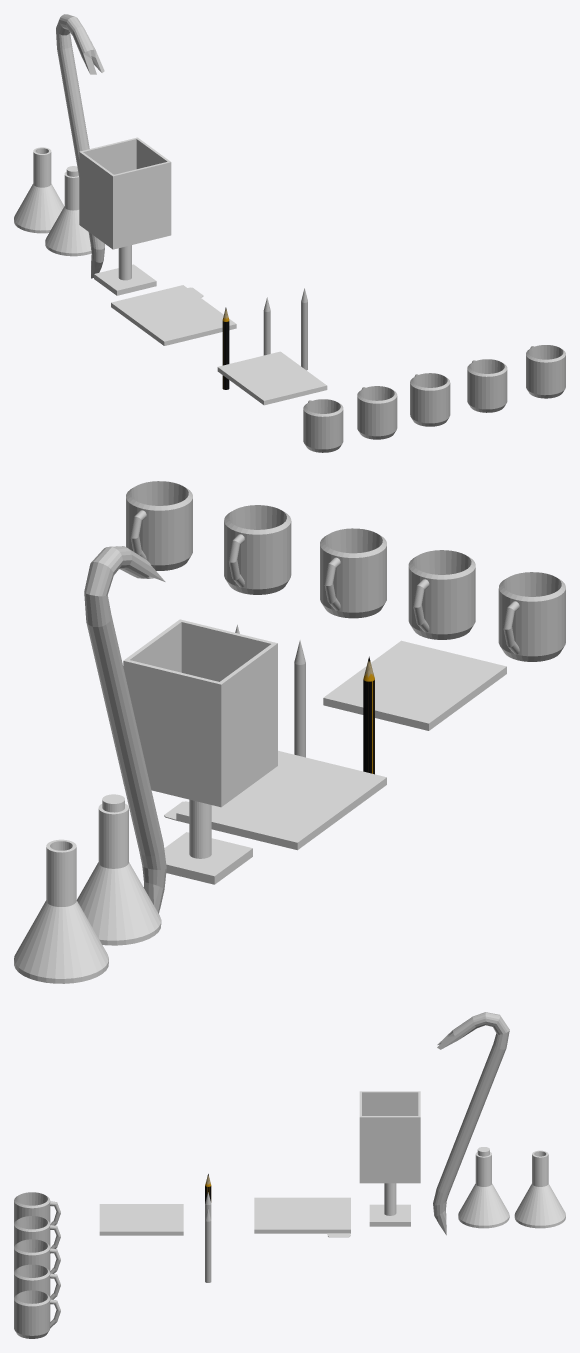
The model's file is coisinhasTexturas.fbx.
3 views of the same model, one above another, from view 1: azimuth 30°, elevation 25°; view 2: azimuth 150°, elevation 25°; view 3: azimuth 270°, elevation 25° (orthographic). The views are drawn at different scales.
Visible parts, largest first — view 1: abajur, ficha, pe de pequi, folheto.002, tubo 1, tubo 2, xicara.003, xicara.001, xicara, xicara.002, xicara.004; view 2: abajur, pe de pequi, ficha, folheto.002, tubo 1, tubo 2, xicara.003, xicara.001, xicara, xicara.002, xicara.004, lapis.001 (+1 smaller); view 3: abajur, pe de pequi, ficha, folheto.002, tubo 2, tubo 1, xicara.004, xicara.003, xicara.002, xicara, xicara.001, lapis.002.
Part boxes in pixels (x1,y1,x2,y2): abajur: (79, 137, 171, 295); ficha: (111, 285, 236, 345); pe de pequi: (56, 14, 104, 278); folheto.002: (217, 351, 327, 405); tubo 1: (14, 147, 64, 233); tubo 2: (45, 166, 91, 256); xicara.003: (467, 359, 507, 412); xicara.001: (357, 386, 397, 439); xicara: (303, 399, 343, 452); xicara.002: (410, 373, 450, 426); xicara.004: (526, 345, 565, 398); abajur: (123, 619, 277, 884); pe de pequi: (84, 546, 166, 913); ficha: (164, 750, 386, 850); folheto.002: (323, 640, 506, 730); tubo 1: (14, 839, 108, 983); tubo 2: (77, 794, 161, 945); xicara.003: (224, 505, 291, 594); xicara.001: (408, 550, 475, 639); xicara: (498, 572, 565, 661); xicara.002: (320, 528, 386, 618); xicara.004: (126, 481, 192, 570); lapis.001: (294, 640, 305, 757); abajur: (359, 1091, 420, 1226); pe de pequi: (433, 1012, 509, 1235); ficha: (254, 1197, 350, 1237); folheto.002: (99, 1204, 183, 1235); tubo 2: (458, 1147, 509, 1228); tubo 1: (514, 1150, 565, 1228); xicara.004: (14, 1290, 60, 1338); xicara.003: (14, 1264, 60, 1299); xicara.002: (14, 1239, 60, 1273); xicara: (14, 1192, 60, 1225); xicara.001: (14, 1216, 60, 1253); lapis.002: (205, 1208, 211, 1282).
Size of the model in its own units: 1042 by 935 by 1996.
